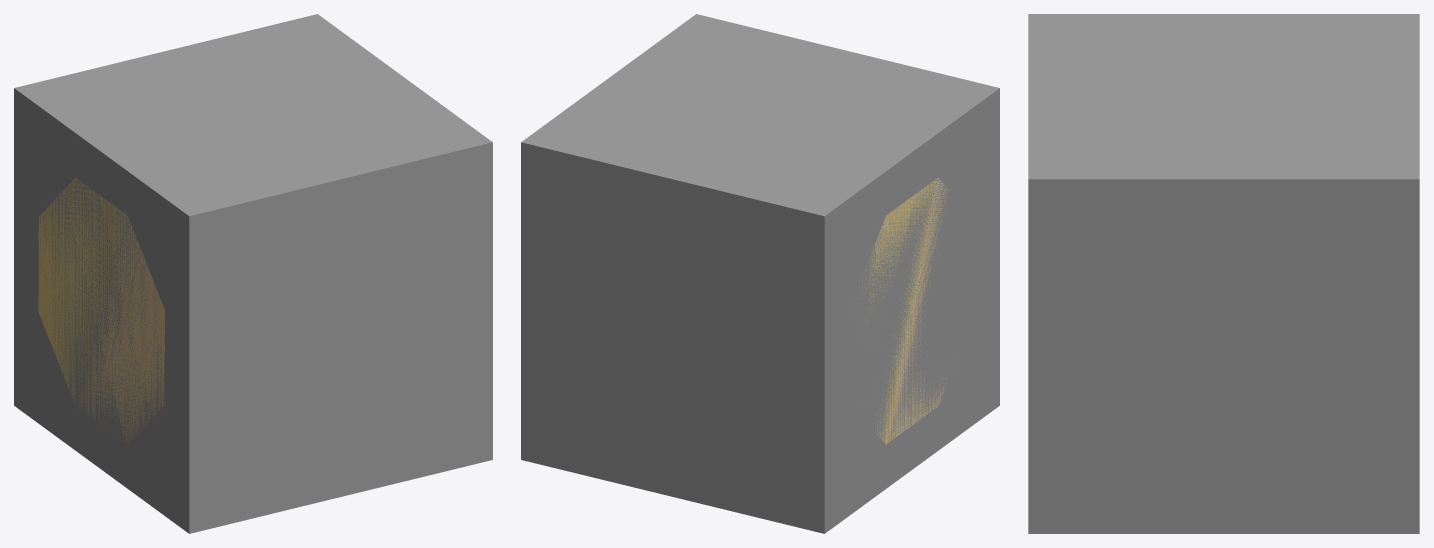
Rendered from ClassicLampSocket.obj.
The picture shows the model from 3 angles, left to right: view 1: azimuth 30°, elevation 25°; view 2: azimuth 150°, elevation 25°; view 3: azimuth 270°, elevation 25°; orthographic projection. The views are drawn at different scales.
Parts seen in each view (by area): view 1: Cube, base; view 2: Cube, base; view 3: Cube.
Part boxes in pixels (box(x1,y1,x2,y2)): Cube: box(14, 14, 492, 533); base: box(38, 178, 164, 443); Cube: box(521, 14, 999, 533); base: box(857, 177, 948, 444); Cube: box(1028, 14, 1419, 533).
Bounding box in the file's own units: 1 × 1 × 1.
